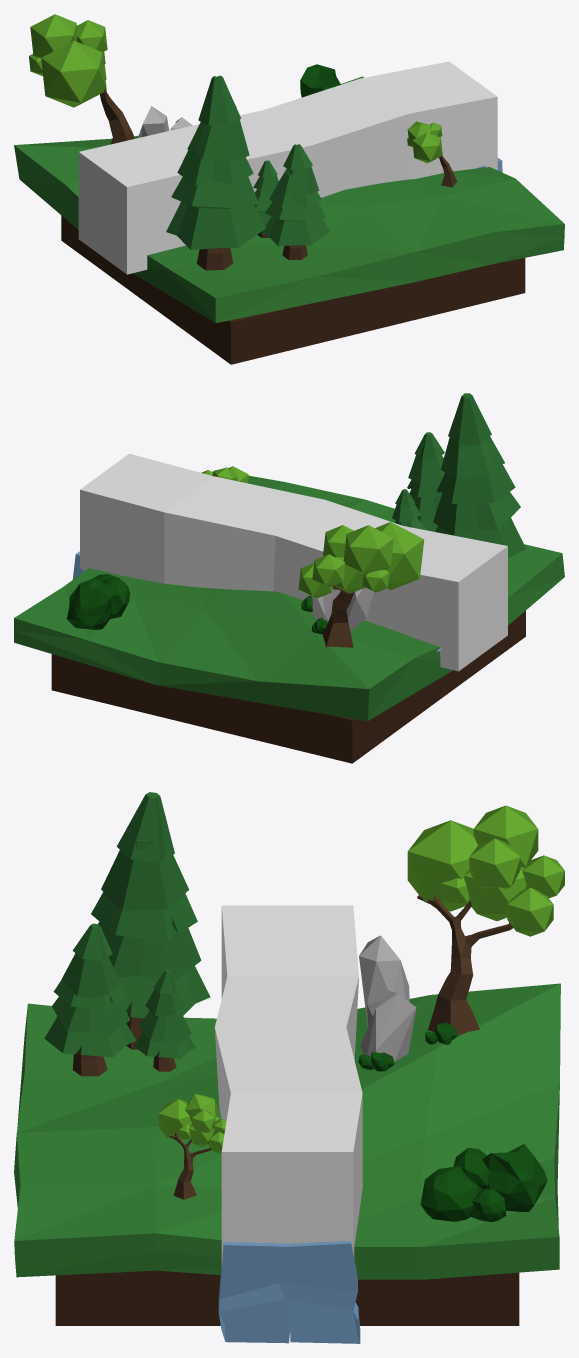
The model's file is Trees (1).fbx.
The picture shows the model from 3 angles, top to bottom: view 1: azimuth 30°, elevation 25°; view 2: azimuth 150°, elevation 25°; view 3: azimuth 270°, elevation 25°; orthographic projection. The views are drawn at different scales.
Visible parts, largest first — view 1: Cube.002, Cube.003, Cube.001, Cylinder.007, Icosphere.002, Cylinder.008, Cylinder.010, Cylinder.009, Cylinder.003, Icosphere.004, Cylinder.011, Cylinder.002 (+9 smaller); view 2: Cube.003, Cube.002, Cube.001, Cylinder.008, Cylinder.009, Icosphere.004, Cylinder.010, Icosphere.002, Icosphere.017, Cylinder.011, Icosphere.008, Cube (+10 smaller); view 3: Cube.002, Cube.003, Cube.001, Plane, Icosphere.008, Icosphere.002, Cylinder.010, Cube, Cylinder.008, Cylinder.009, Icosphere.017, Icosphere.018 (+20 smaller).
Boxes of the visible parts, x1,y1,x2,y2 form: Cube.002: (14,76,564,322); Cube.003: (78,61,497,274); Cube.001: (61,215,525,364); Cylinder.007: (166,201,265,249); Icosphere.002: (41,41,106,107); Cylinder.008: (171,177,259,208); Cylinder.010: (187,105,249,162); Cylinder.009: (177,149,253,185); Cylinder.003: (261,216,330,246); Icosphere.004: (30,14,76,58); Cylinder.011: (198,75,240,125); Cylinder.002: (269,172,321,207); Cube.003: (80,453,507,671); Cube.002: (14,470,564,721); Cube.001: (51,610,525,763); Cylinder.008: (433,491,520,535); Cylinder.009: (436,464,515,503); Icosphere.004: (343,525,393,574); Cylinder.010: (440,433,504,478); Icosphere.002: (375,522,424,590); Icosphere.017: (66,578,111,629); Cylinder.011: (448,393,491,445); Icosphere.008: (312,587,373,629); Cube: (322,585,353,647); Cube.002: (14,983,560,1279); Cube.003: (214,905,362,1267); Cube.001: (55,1270,519,1325); Plane: (218,1057,360,1343); Icosphere.008: (359,935,416,1061); Icosphere.002: (407,820,477,911); Cylinder.010: (101,831,188,911); Cube: (417,895,513,1035); Cylinder.008: (98,922,201,980); Cylinder.009: (91,892,197,941); Icosphere.017: (482,1144,547,1211); Icosphere.018: (420,1166,481,1221).
Bounding box in the file's own units: 903 × 587 × 837.
